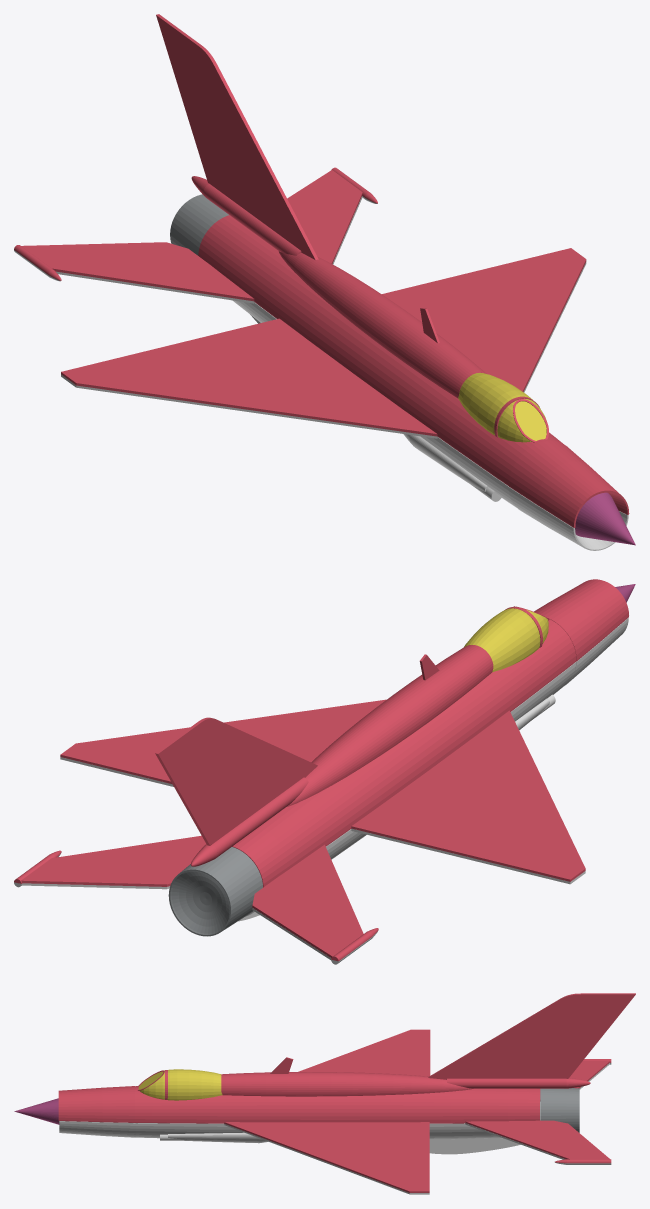
File: mig21_red.glb
The picture shows the model from 3 angles, top to bottom: view 1: azimuth 30°, elevation 25°; view 2: azimuth 150°, elevation 25°; view 3: azimuth 270°, elevation 25°; orthographic projection. The views are drawn at different scales.
Visible parts, largest first — view 1: Mesh_Mesh_head_geo.001_lambert2SG.001; view 2: Mesh_Mesh_head_geo.001_lambert2SG.001; view 3: Mesh_Mesh_head_geo.001_lambert2SG.001.
Boxes of the visible parts, <box> form: Mesh_Mesh_head_geo.001_lambert2SG.001: <box>14,14,635,550</box>; Mesh_Mesh_head_geo.001_lambert2SG.001: <box>14,579,635,964</box>; Mesh_Mesh_head_geo.001_lambert2SG.001: <box>14,993,635,1194</box>.
Size of the model in its own units: 0.1079 by 0.0497 by 0.1754.
